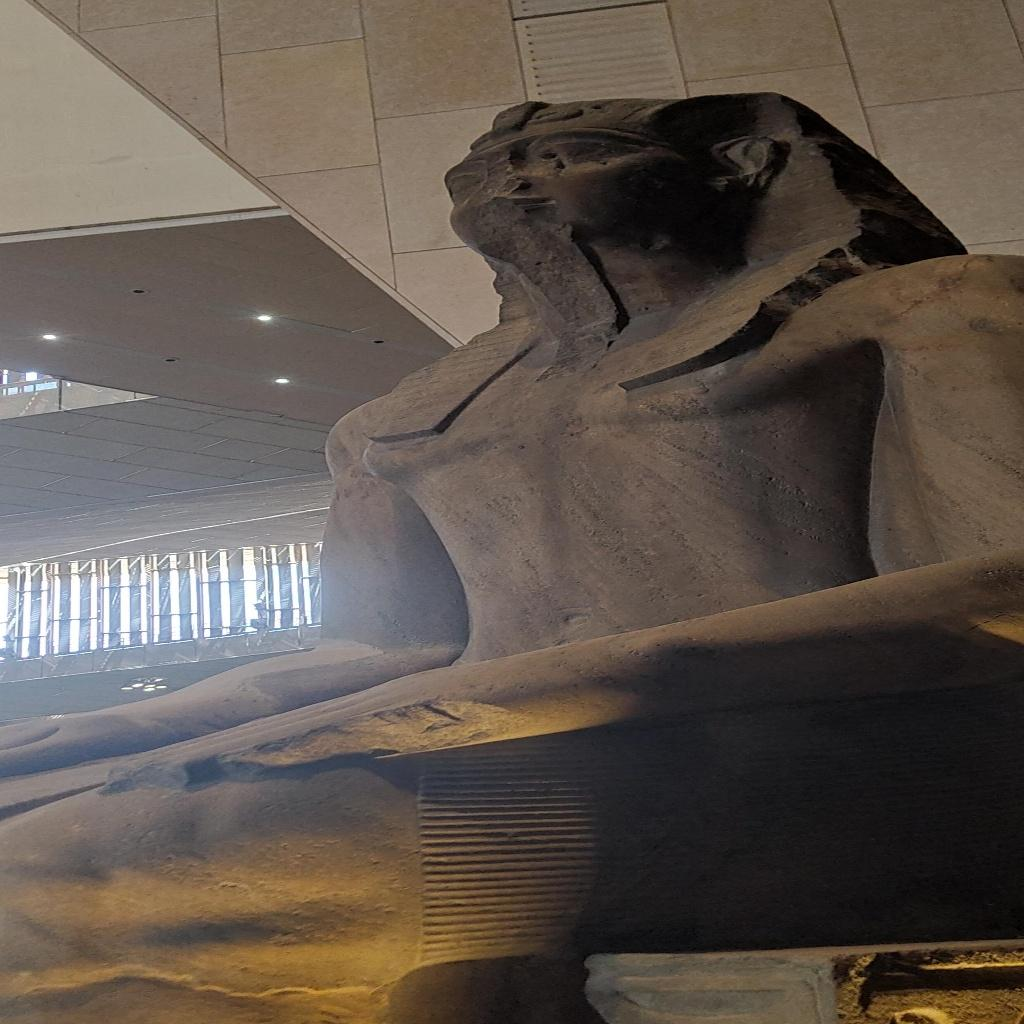Colossal Statue of Middle Kingdom King: (8, 86, 1018, 1016)
